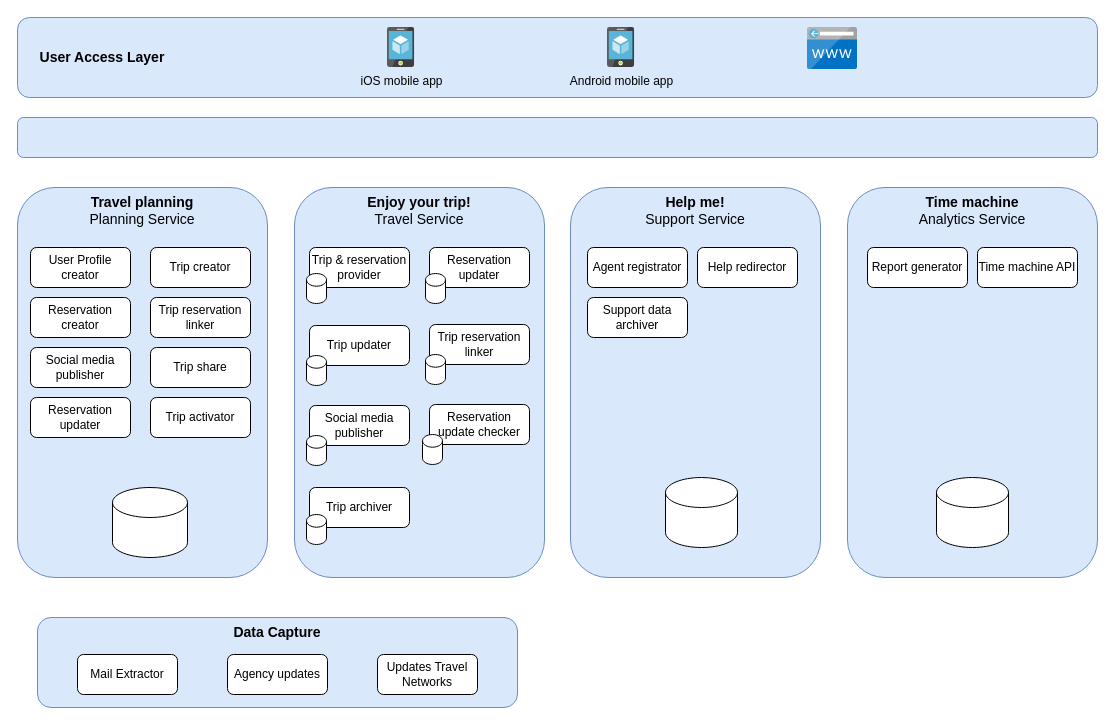
Image size: 1115x725. Some labels were removed from this diagram. Here are the shapes that lost their labels. From the top down, the centre of each, then its label:
At (x=832, y=48): "Web application".
At (x=557, y=137): "API Gateway".
At (x=150, y=522): "Planning data service".
At (x=701, y=512): "Support data service".
At (x=972, y=512): "OLAP data system".
